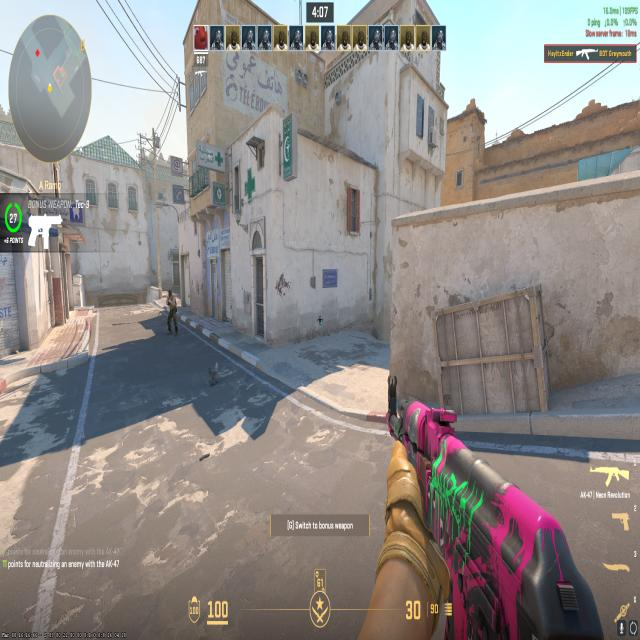t: (162, 286, 177, 337)
